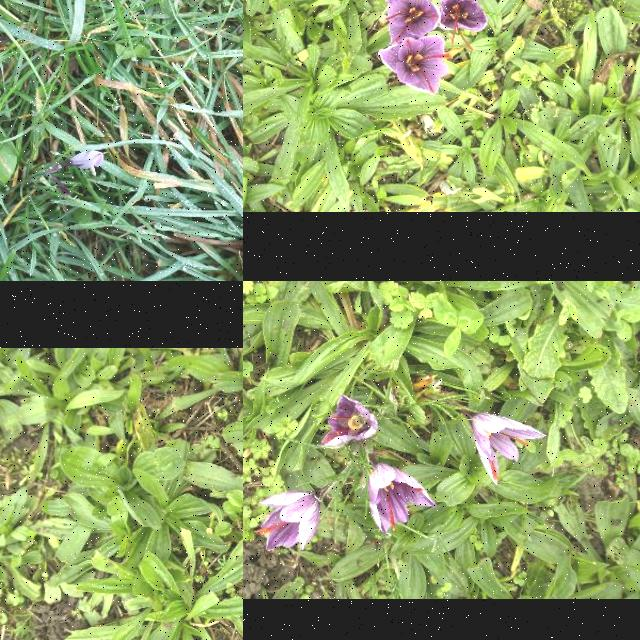flower: (472, 413, 546, 485), (368, 463, 438, 537), (379, 36, 453, 94), (253, 492, 320, 552), (322, 396, 380, 448), (439, 0, 488, 51), (383, 0, 438, 44)
